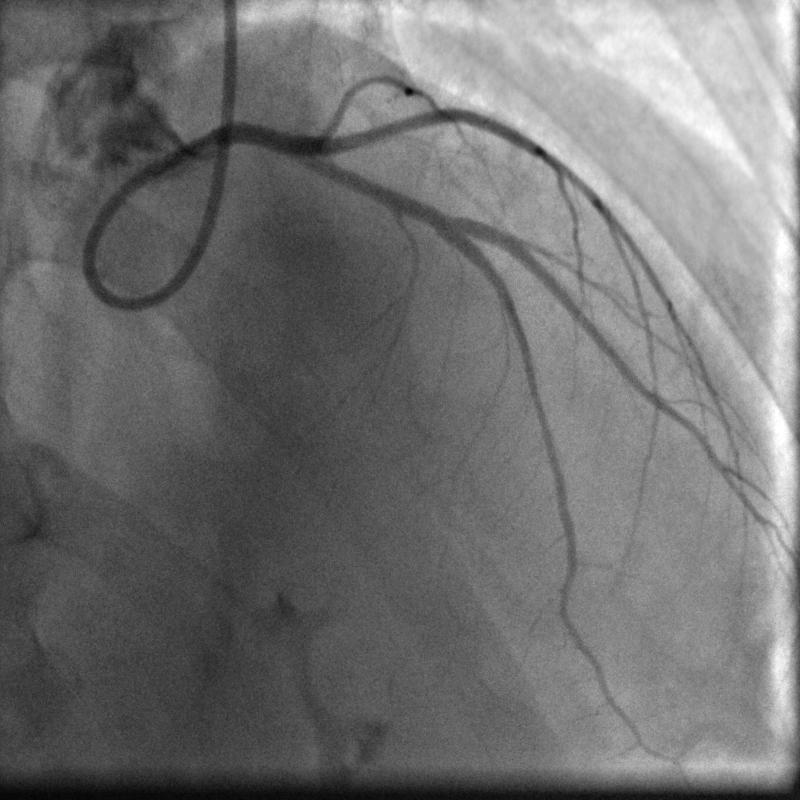Stenosis: (424, 200, 455, 238)
